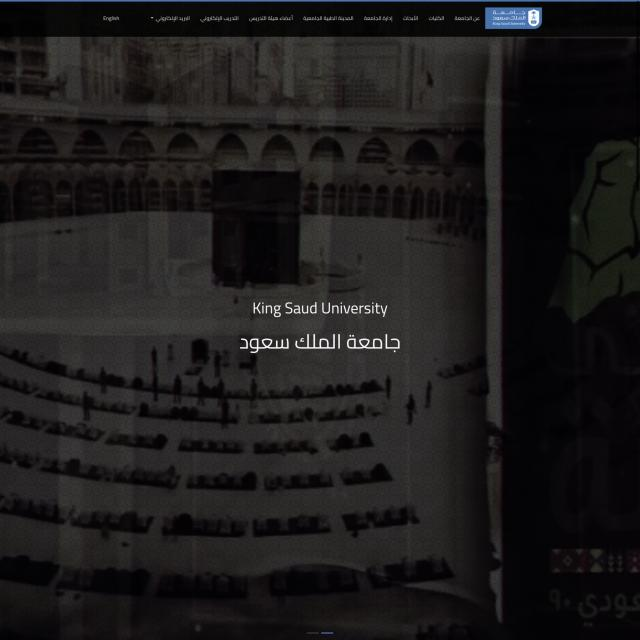logo: (485, 6, 543, 30)
navigation: (148, 12, 481, 26)
